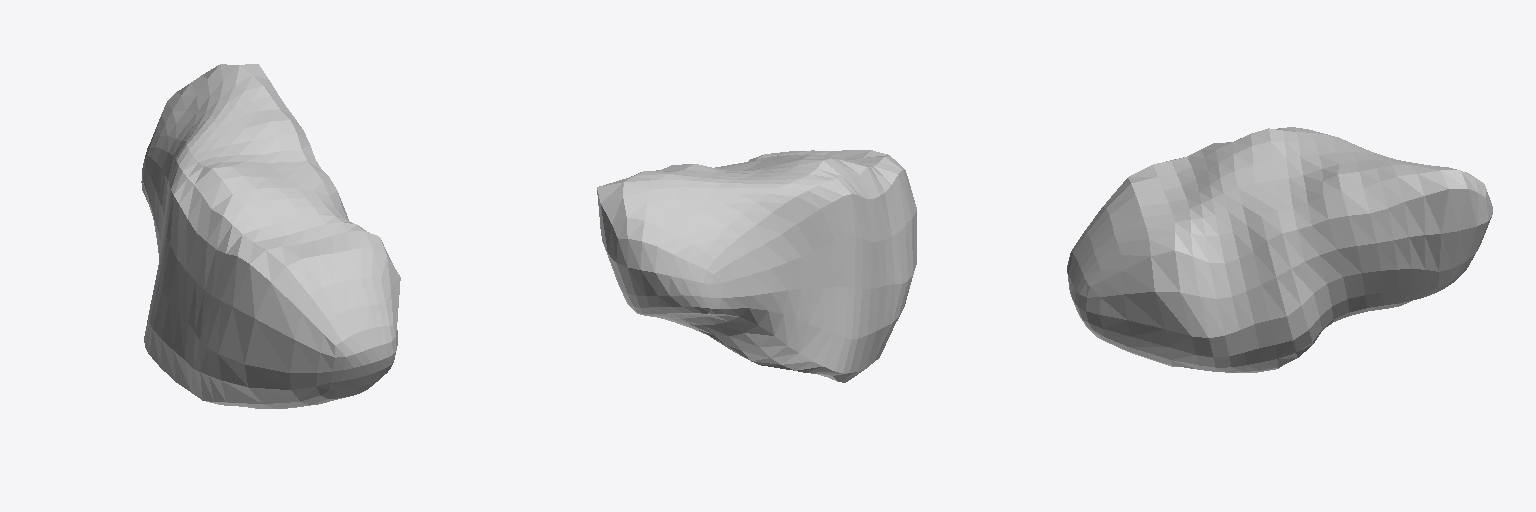
Rendered from PM3D_rock039_009.OBJ.
3 renders of one model, left to right at view 1: azimuth 30°, elevation 25°; view 2: azimuth 150°, elevation 25°; view 3: azimuth 270°, elevation 25°, orthographic.
Parts seen in each view (by area): view 1: Group41145; view 2: Group41145; view 3: Group41145.
Part boxes in pixels (x1,y1,x2,y2): Group41145: (141, 64, 400, 408); Group41145: (597, 150, 916, 382); Group41145: (1067, 127, 1492, 372).
Bounding box in the file's own units: 927 × 1067 × 1763.